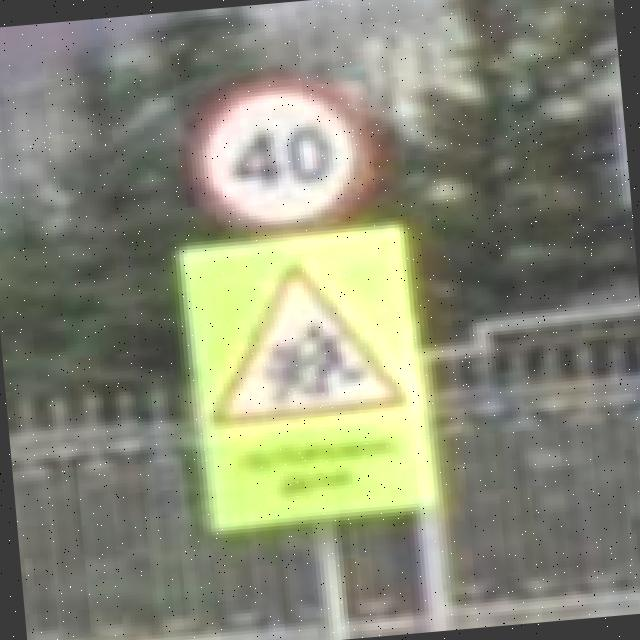Dzieci: (192, 251, 415, 430)
Ograniczenie predkosci do 40: (184, 68, 378, 245)
